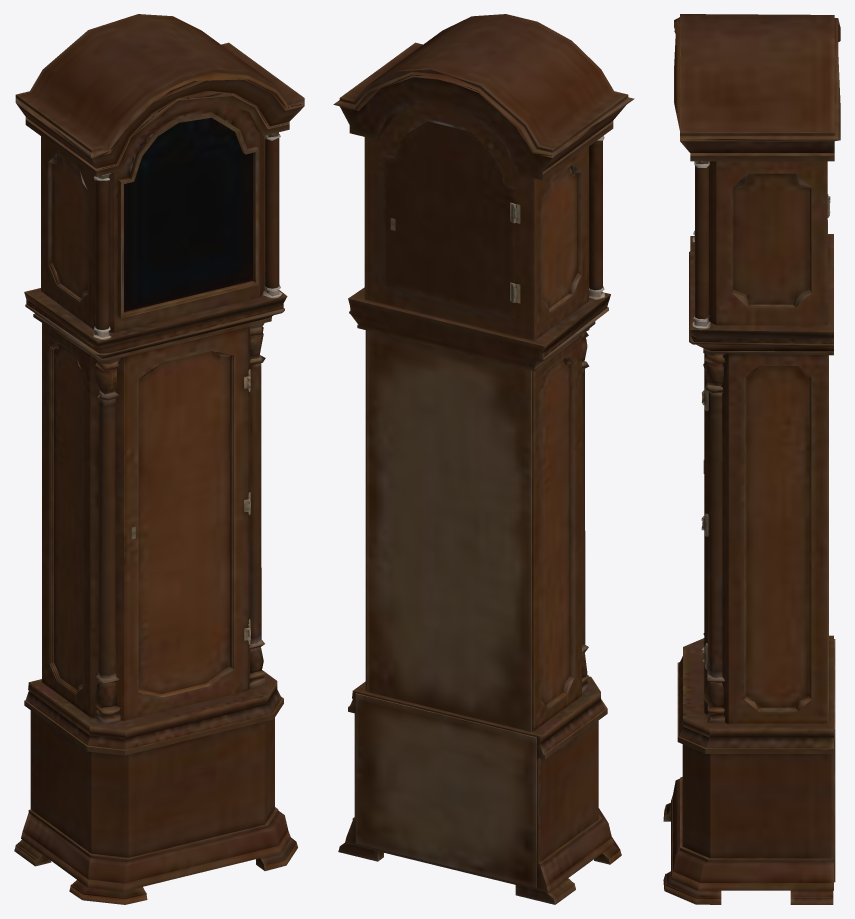
The model's file is th_standuhr.glb.
3 views of the same model, side by side, from view 1: azimuth 30°, elevation 25°; view 2: azimuth 150°, elevation 25°; view 3: azimuth 270°, elevation 25° (orthographic). The views are drawn at different scales.
Visible parts, largest first — view 1: vintage_grandfather_clock_01_body; view 2: vintage_grandfather_clock_01_body; view 3: vintage_grandfather_clock_01_body.
Boxes of the visible parts, <box> form: vintage_grandfather_clock_01_body: <box>14,14,304,904</box>; vintage_grandfather_clock_01_body: <box>333,14,634,904</box>; vintage_grandfather_clock_01_body: <box>663,14,840,904</box>.
Size of the model in its own units: 0.6256 by 2.19 by 0.4266.
Materials: 2 (2 with a texture image).
